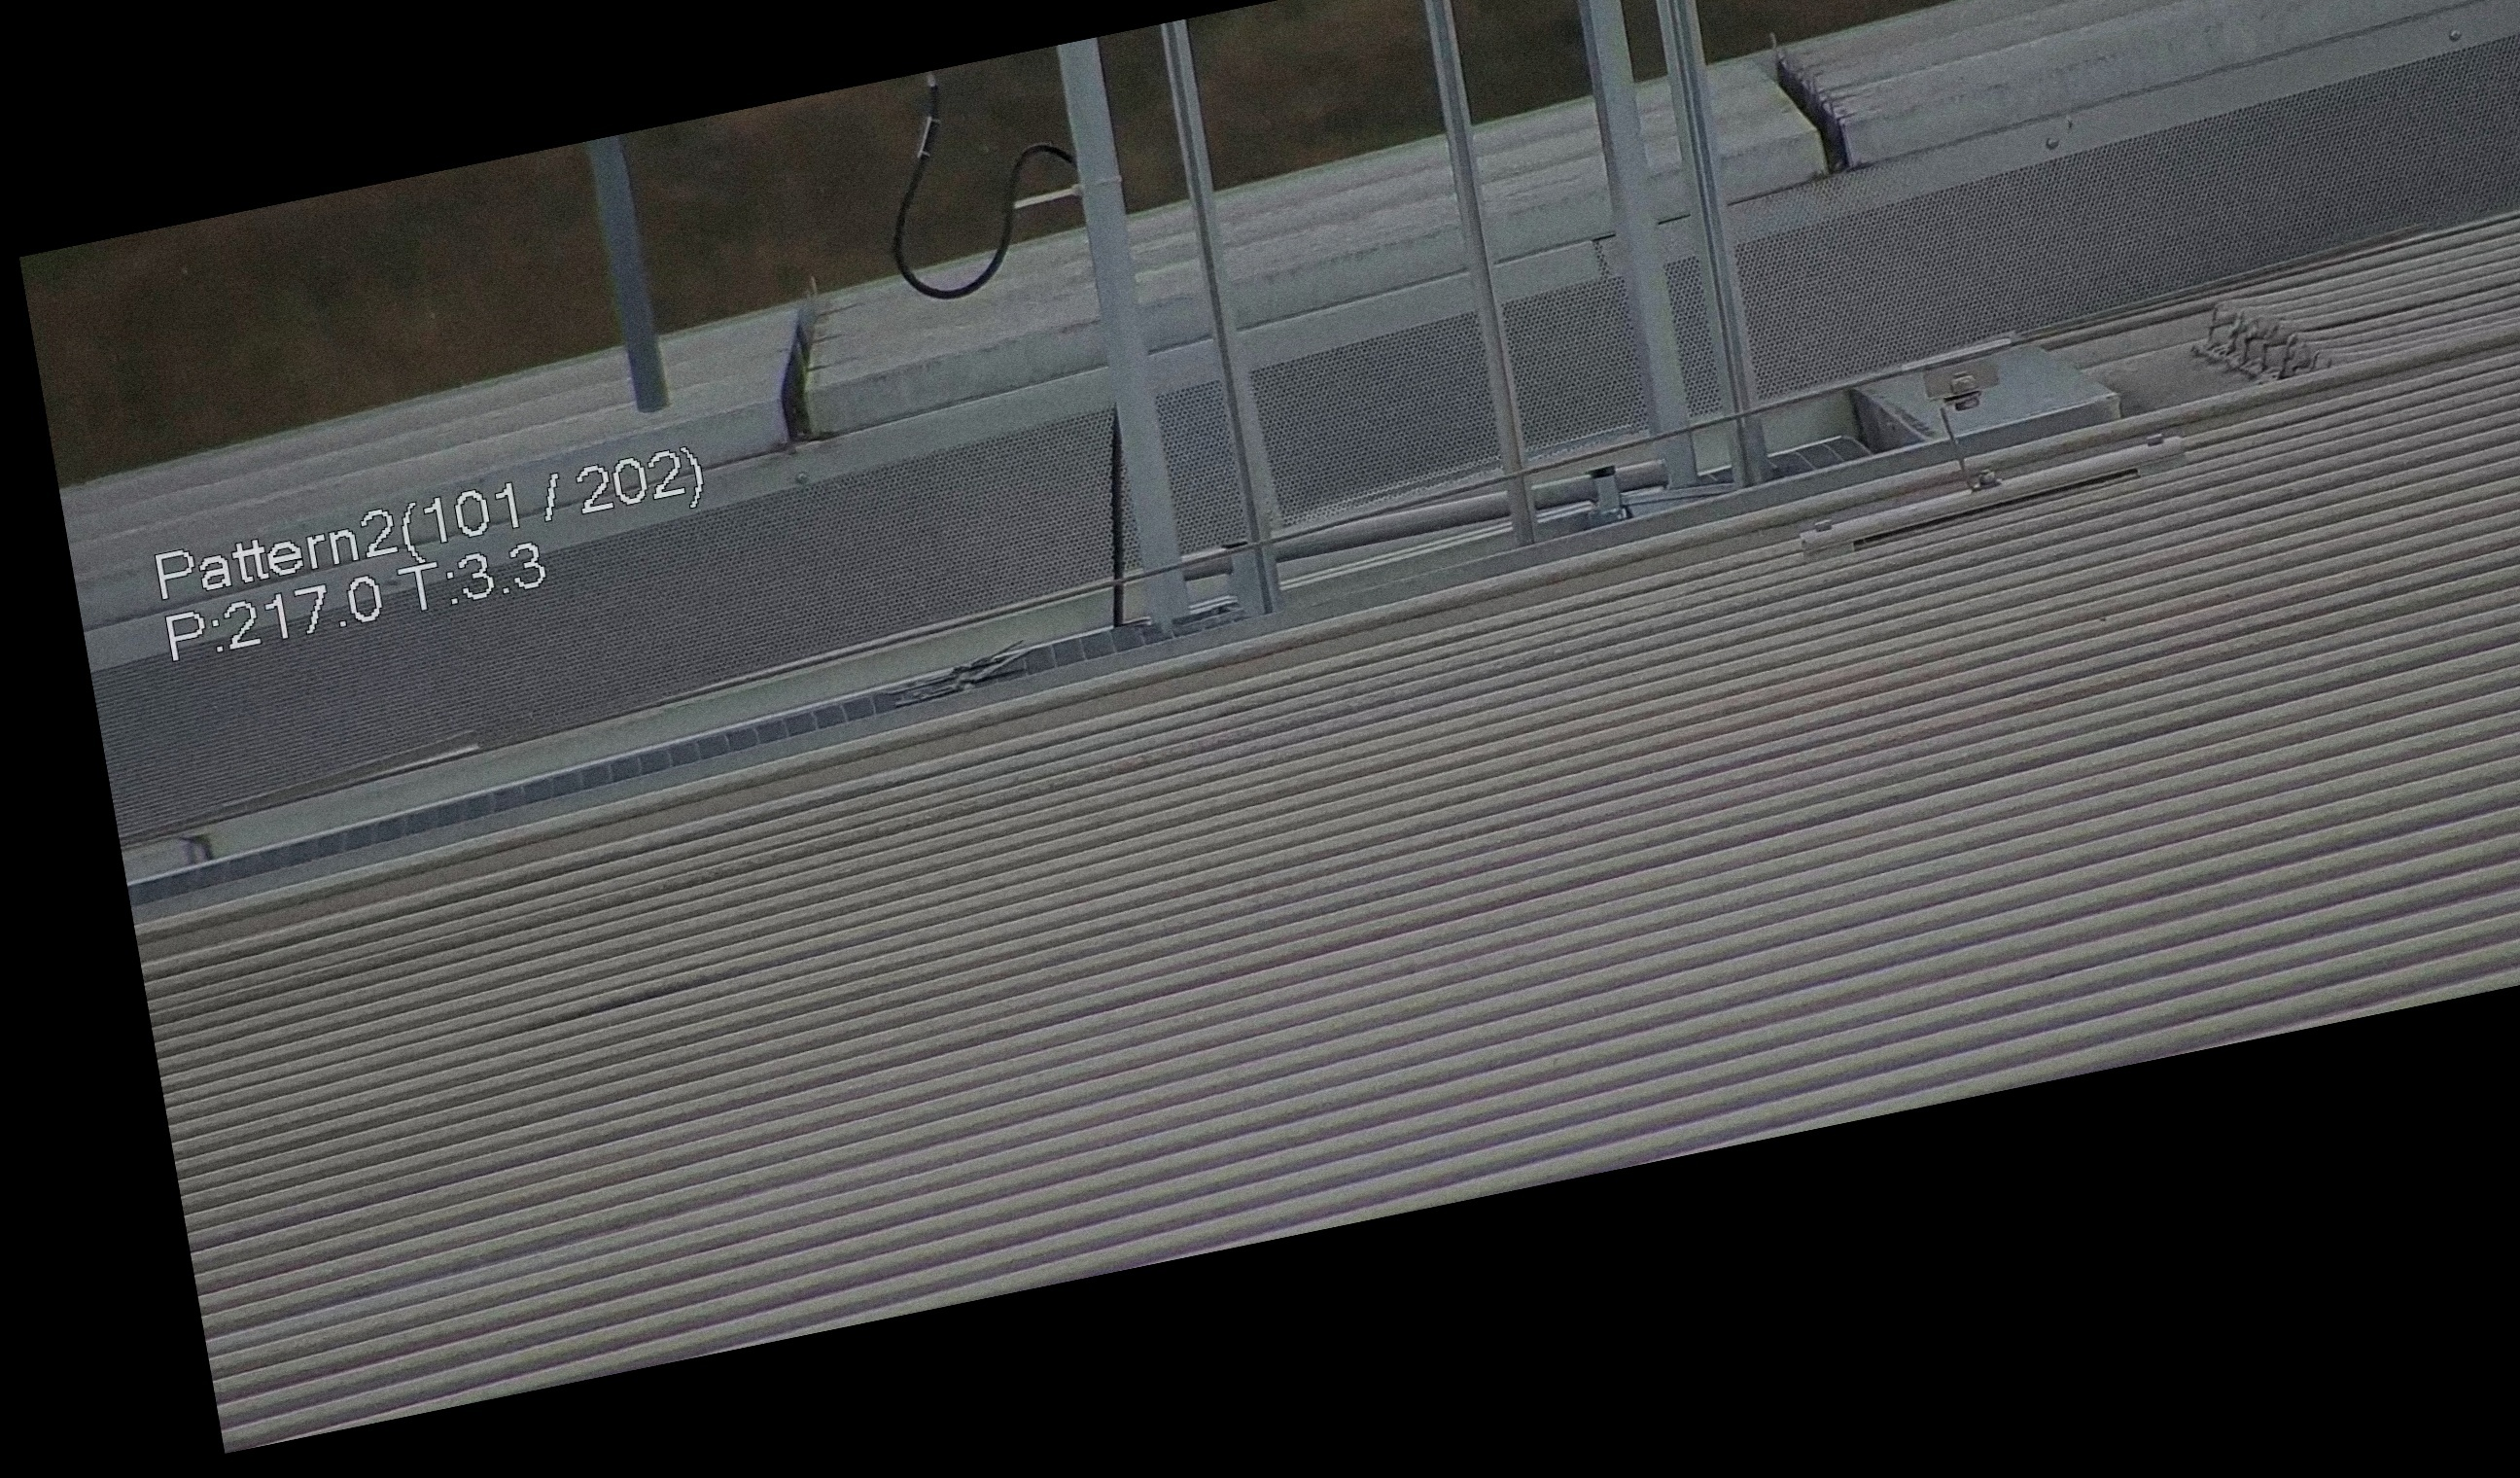Other: (1741, 5, 1885, 187)
